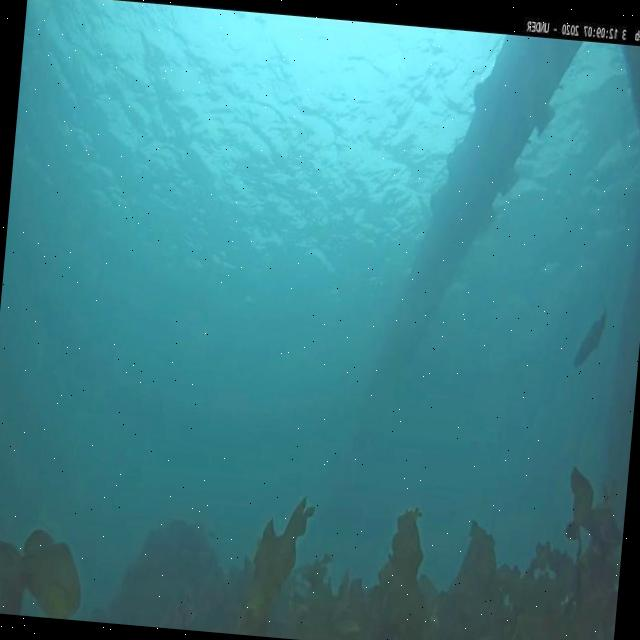fish: (572, 298, 608, 369)
